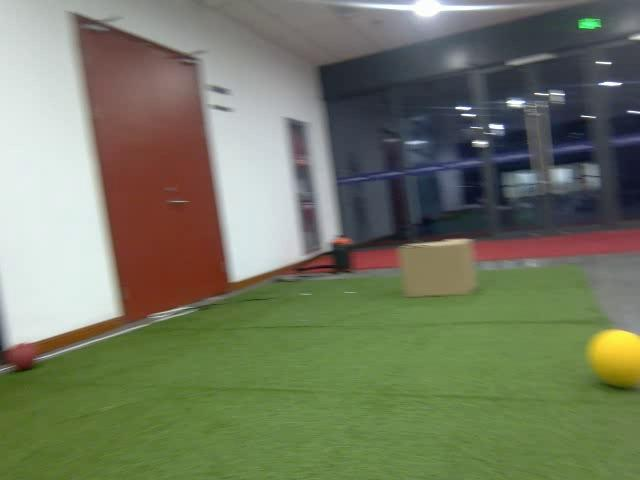red_ball: (8, 338, 41, 372)
yellow_ball: (587, 326, 640, 392)
